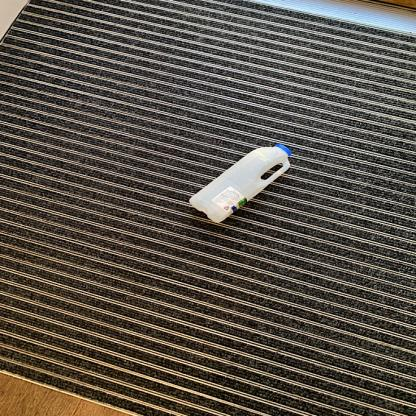trash: (187, 141, 293, 227)
